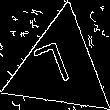L_S: (37, 38, 82, 97)
